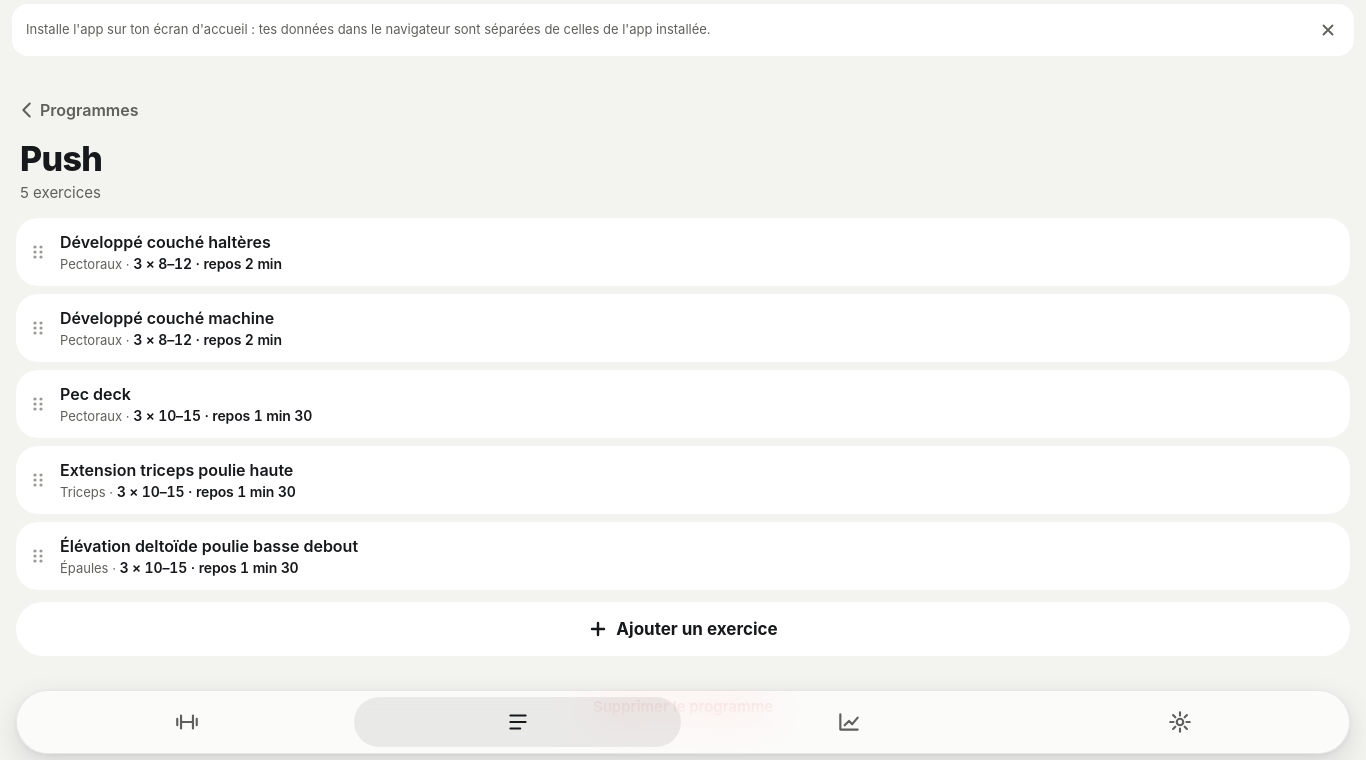
Test: TemplateEditor › une fourchette invalide est signalée en ligne et n'est pas enregistrée ; les boutons respectent les bornes
This screenshot has width=1366, height=760.
Click the button "Pec deck Pectoraux · 3 × 10–15 · repos 1 min 30".
click(95, 394)  # box [60,370,1350,438]
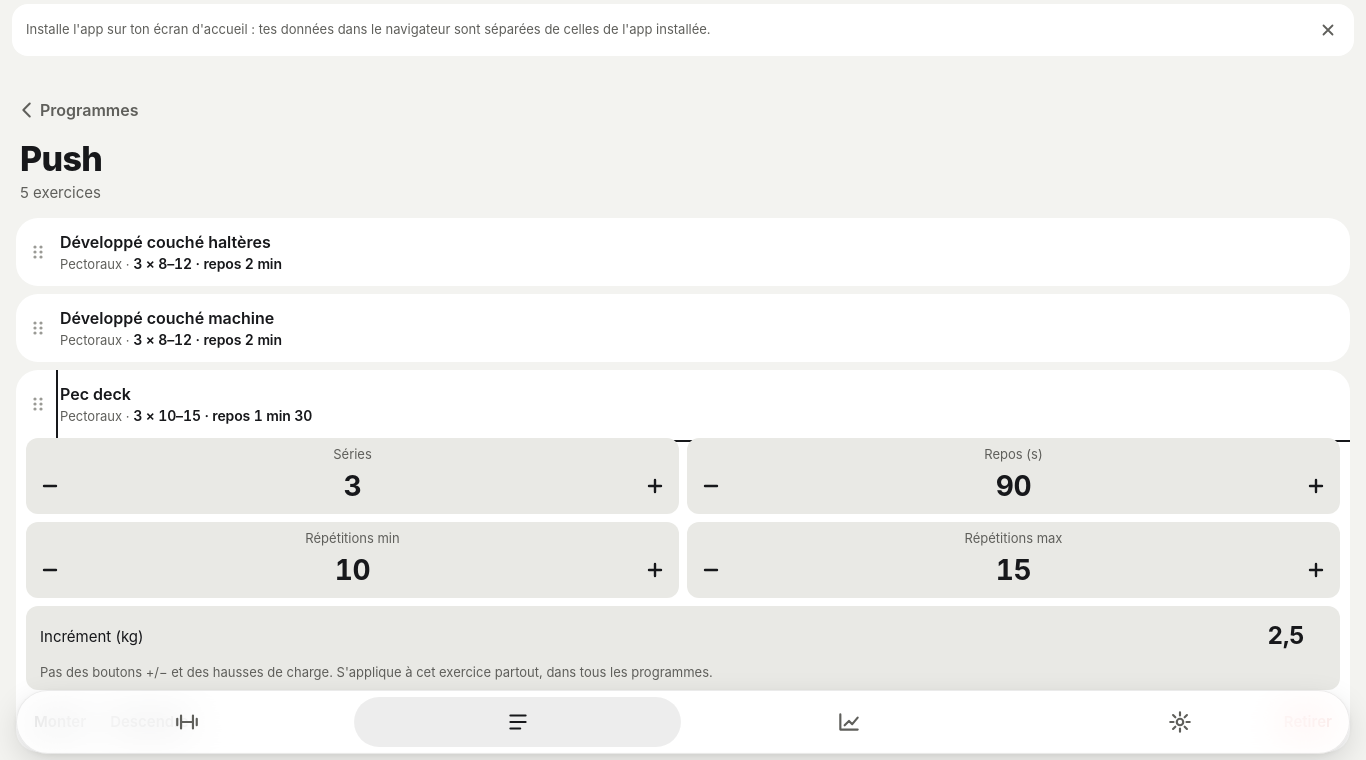
Replace the text in the field labelled "Répétitions max" with "8" at (1014, 570), box [733,546,1294,594]
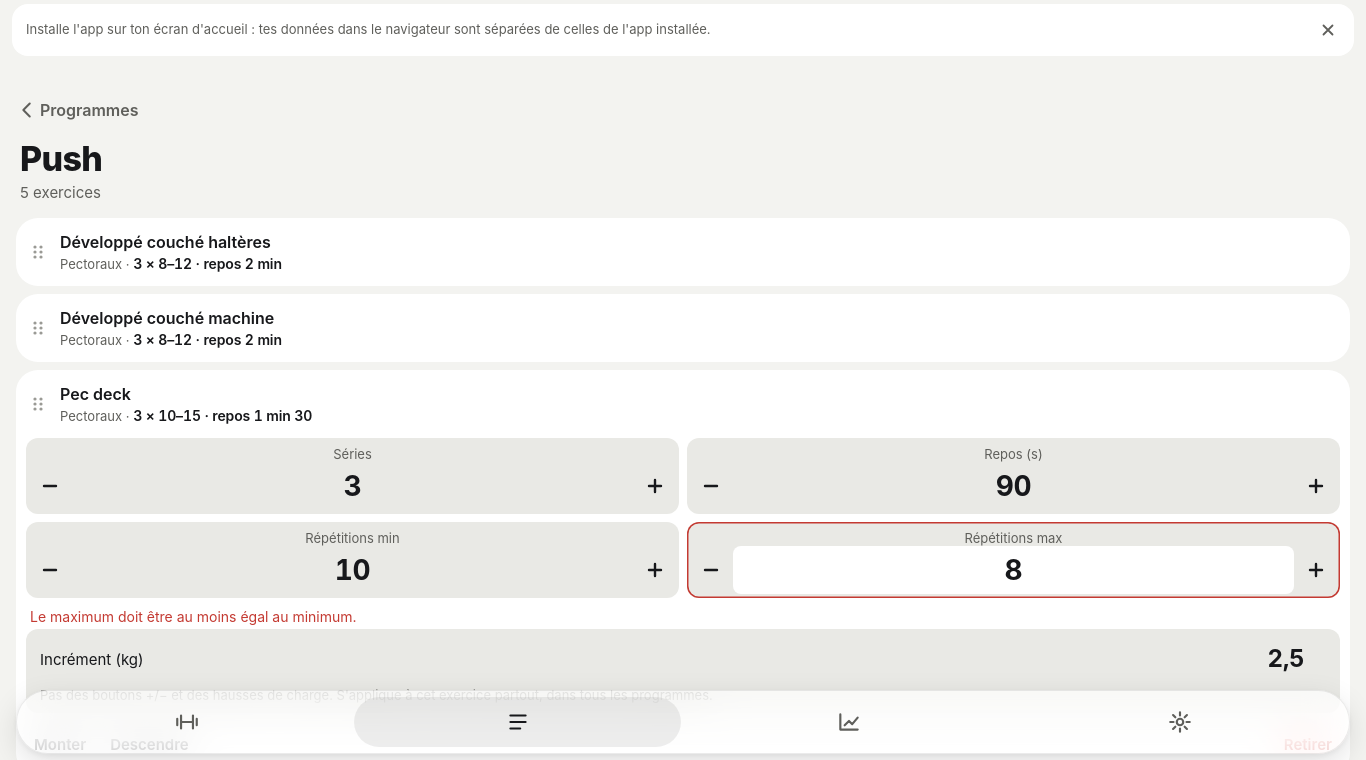
Check: the text "Le maximum doit être au moins égal au minimum." is shown, box [30,608,357,625]
Replace the text in the field labelled "Répétitions max" with "15" at (1014, 570), box [733,546,1294,594]
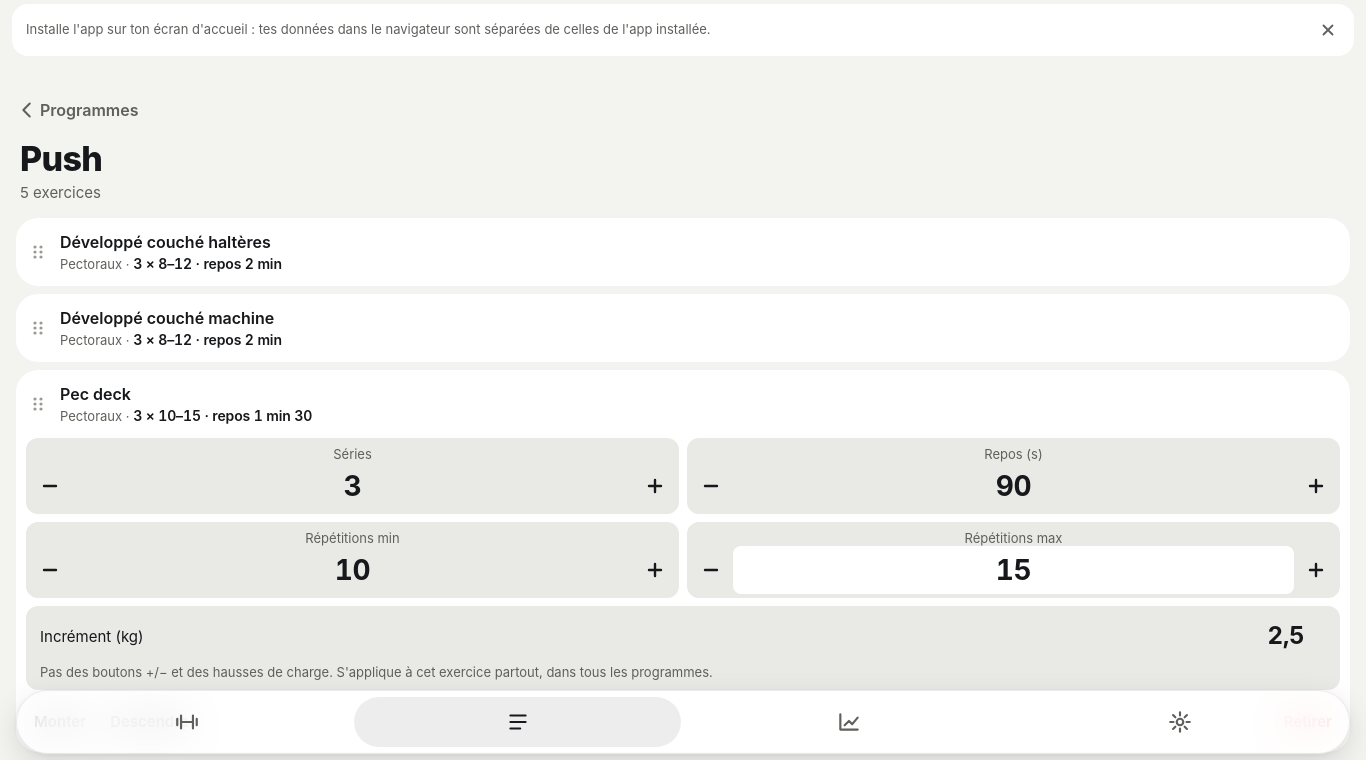
Check: the message "Le maximum doit être au moins égal au minimum." is gone
Click the button named "Plus de repos".
click(1316, 486)  # box [1294,462,1338,510]
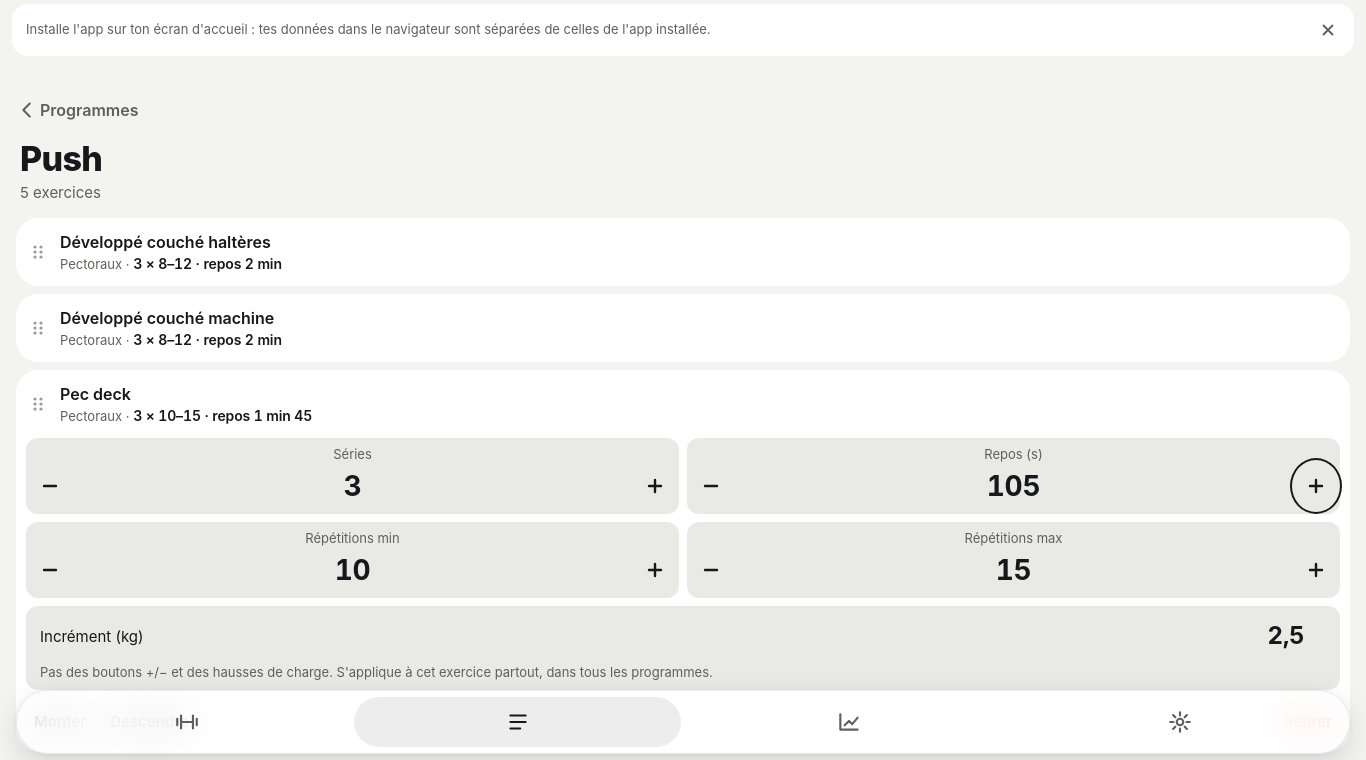
Replace the text in the field labelled "Séries" with "1" at (352, 486), box [72,462,633,510]
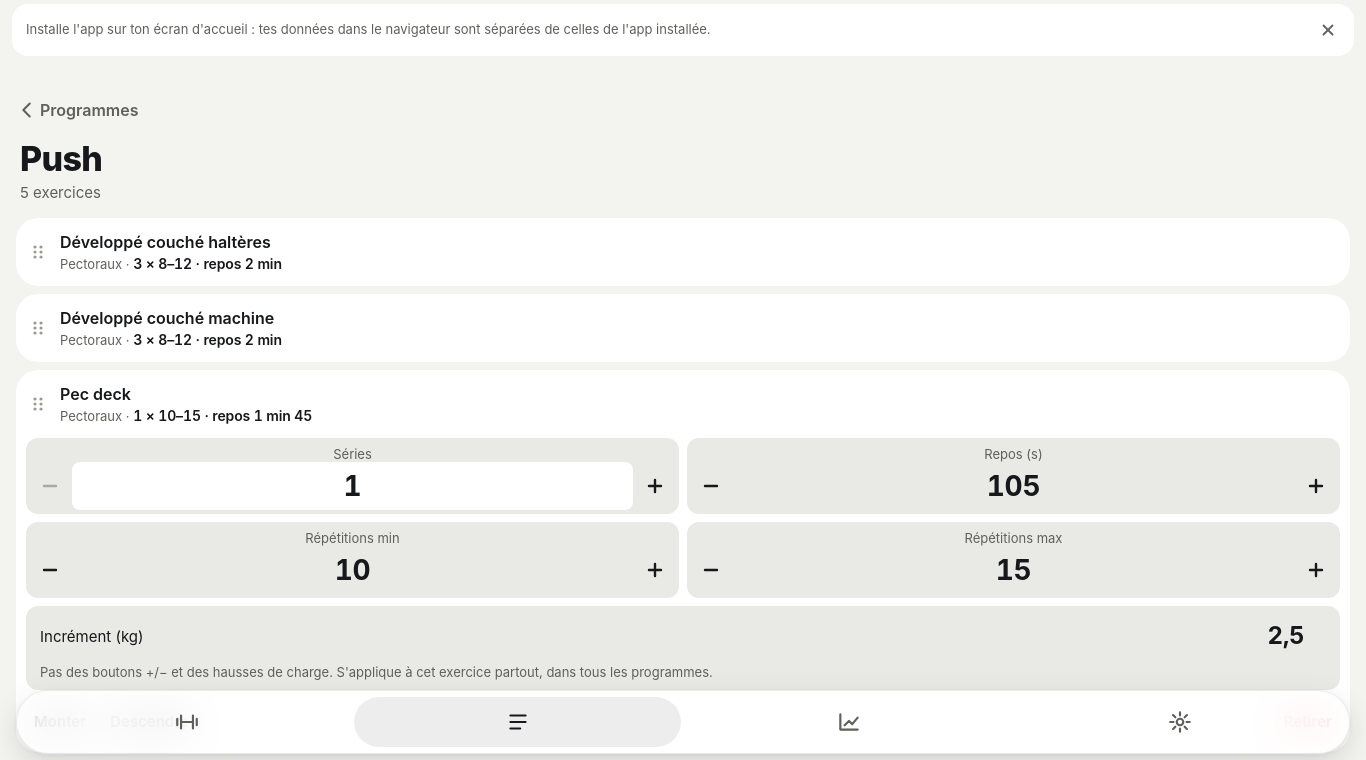
Check: the button named "Moins de séries" is disabled, box [28,462,72,510]
